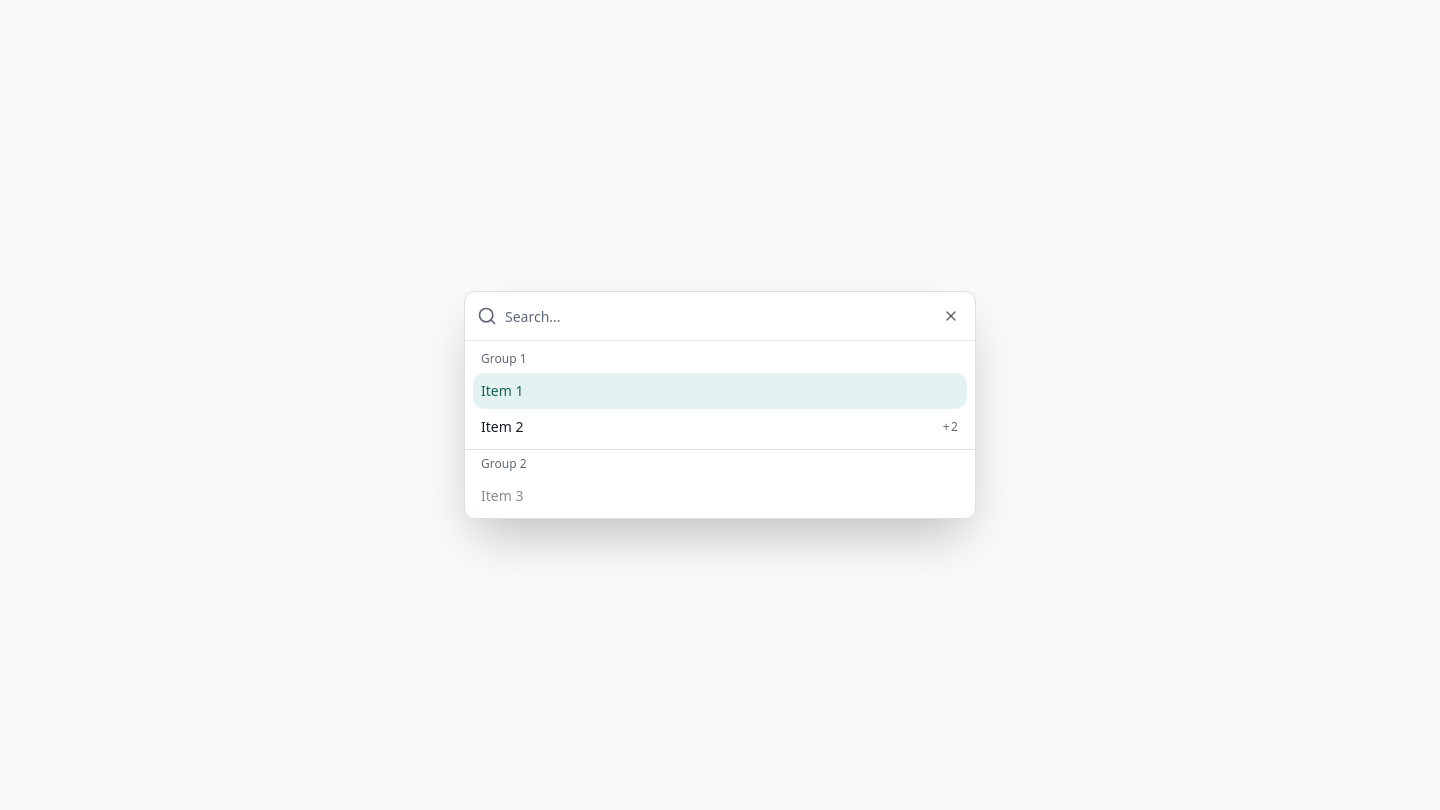
Scenario: CommandDialog › renders CommandEmpty when no results
In the dropdown with placeholder "Search...": x=734, y=316 left=505, top=292, right=963, bottom=340, type "nonexistent"
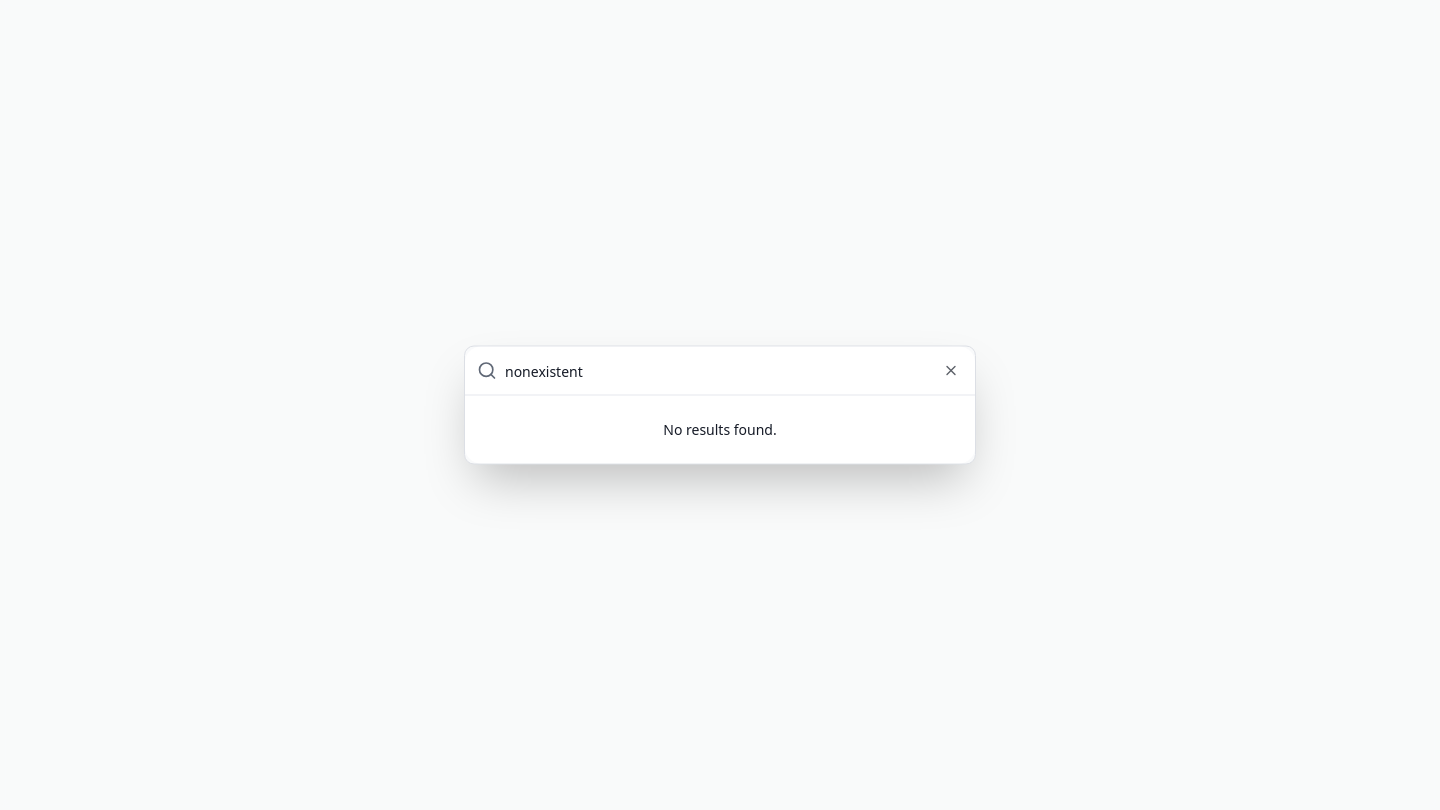
Result: the text "No results found." is shown at left=663, top=420, right=777, bottom=438
